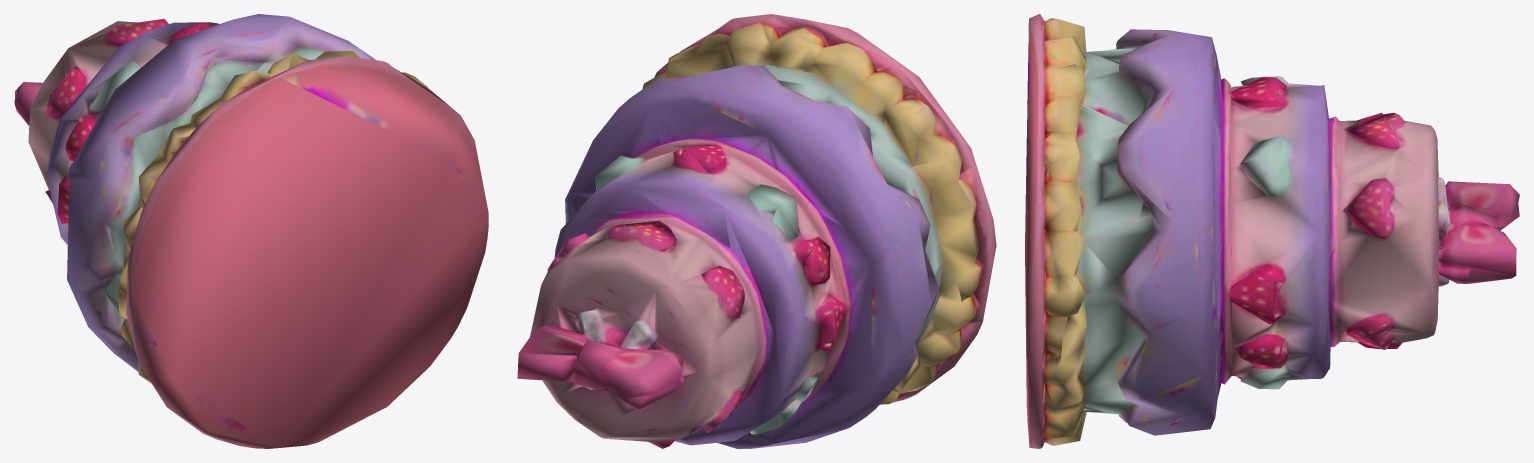
The picture shows the model from 3 angles, left to right: view 1: azimuth 30°, elevation 25°; view 2: azimuth 150°, elevation 25°; view 3: azimuth 270°, elevation 25°; orthographic projection. The views are drawn at different scales.
Parts seen in each view (by area): view 1: material; view 2: material; view 3: material.
Boxes of the visible parts, x1,y1,x2,y2 form: material: [14, 14, 488, 448]; material: [517, 14, 996, 448]; material: [1025, 14, 1519, 448].
Bounding box in the file's own units: 0.8696 × 0.8837 × 1.
Materials: 1 (1 with a texture image).
